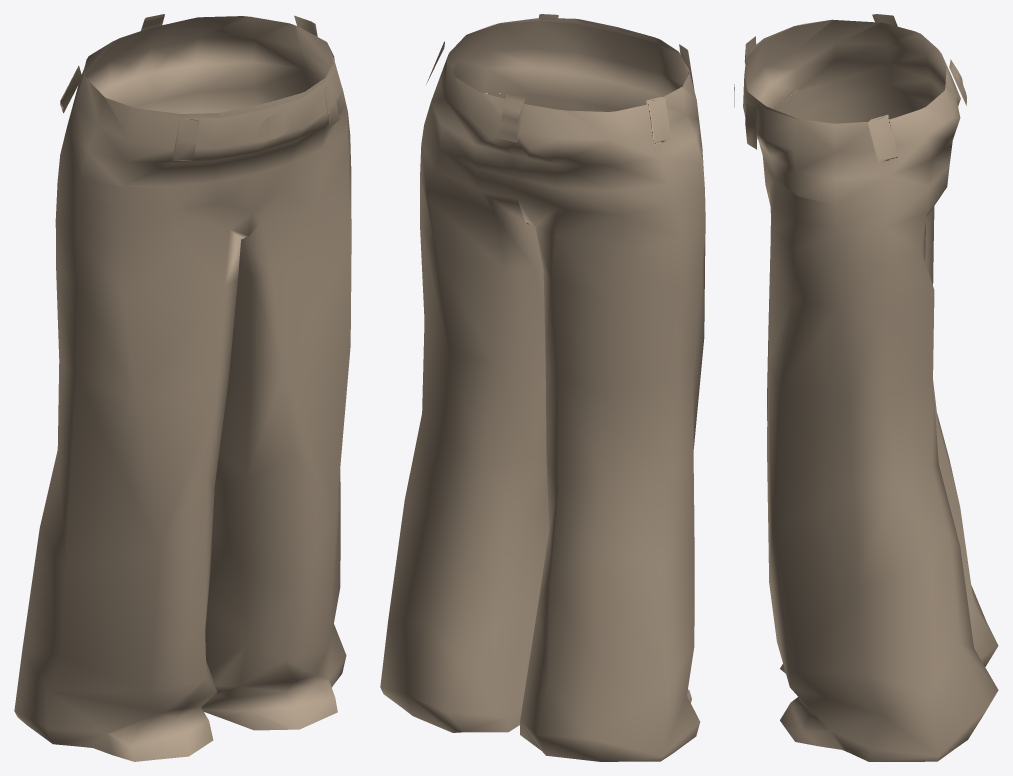
The model's file is straight-only.glb.
3 views of the same model, side by side, from view 1: azimuth 30°, elevation 25°; view 2: azimuth 150°, elevation 25°; view 3: azimuth 270°, elevation 25° (orthographic). The views are drawn at different scales.
Parts seen in each view (by area): view 1: Lowerwear_straight; view 2: Lowerwear_straight; view 3: Lowerwear_straight.
Boxes of the visible parts, <box> form: Lowerwear_straight: <box>14,14,351,761</box>; Lowerwear_straight: <box>380,14,705,761</box>; Lowerwear_straight: <box>734,14,998,761</box>.
Size of the model in its own units: 1.02 by 2.15 by 0.8154.
